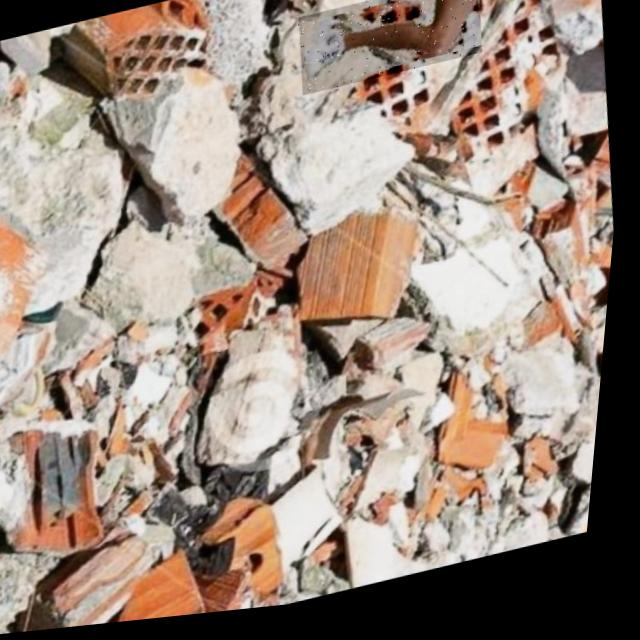Person in Rubble: (292, 0, 488, 103)
